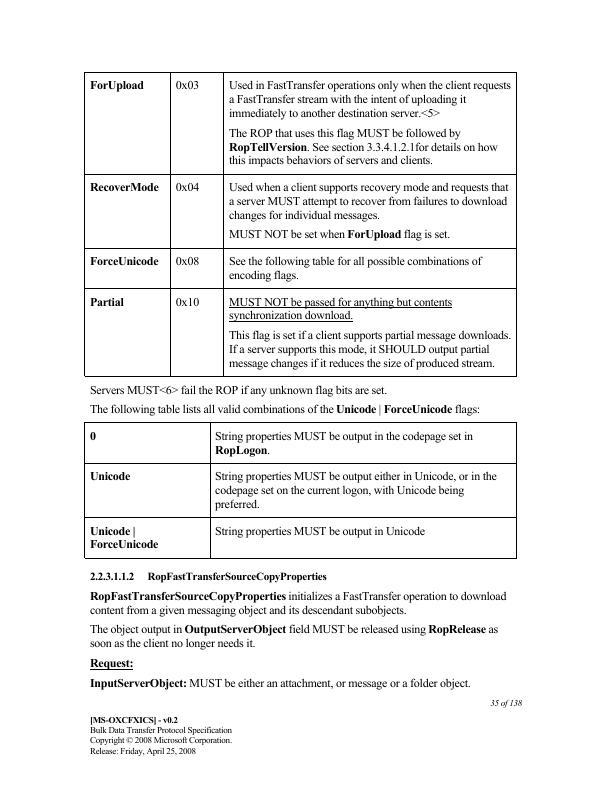table: (83, 68, 521, 379), (81, 420, 519, 560)
text: (89, 622, 503, 653), (87, 589, 506, 617), (87, 713, 237, 756), (88, 402, 482, 418), (87, 675, 473, 691), (85, 384, 391, 399), (87, 570, 330, 584), (87, 655, 136, 673), (489, 697, 526, 708)
